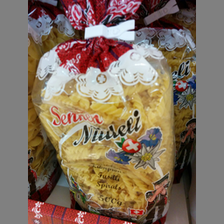pasta: (31, 35, 175, 224)
